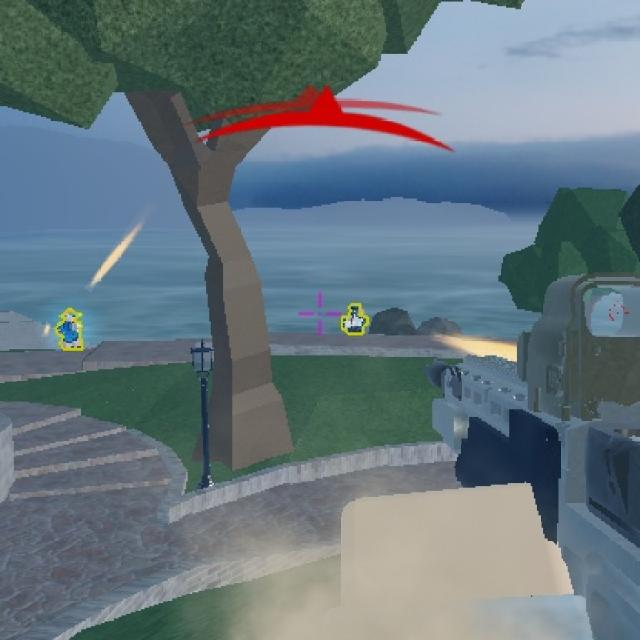player: (60, 306, 84, 352), (344, 300, 368, 338)
